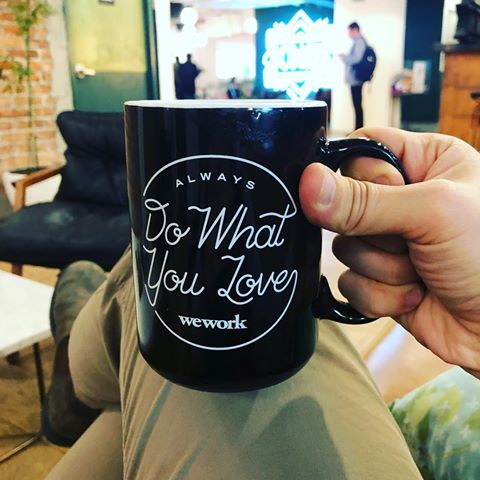wework: (177, 312, 250, 331)
